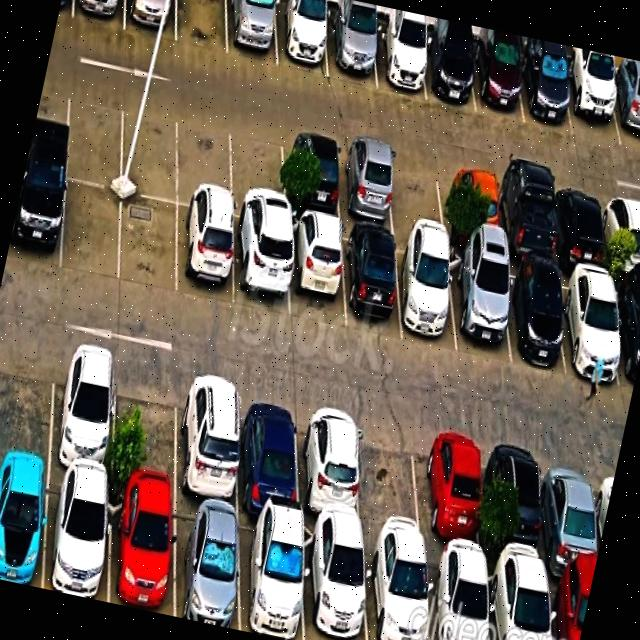empty: (355, 410, 424, 549), (113, 357, 177, 497), (0, 332, 55, 466), (121, 95, 180, 203), (61, 180, 122, 281), (65, 83, 123, 188), (119, 193, 177, 297), (230, 118, 284, 227), (177, 108, 231, 214), (388, 150, 445, 237), (176, 0, 227, 54)
occupied: (49, 342, 115, 482), (420, 421, 482, 562), (298, 397, 361, 534), (43, 471, 108, 602), (174, 499, 239, 630), (177, 371, 238, 510), (109, 485, 173, 616), (238, 384, 298, 520), (239, 513, 303, 640), (491, 434, 547, 572), (542, 446, 599, 581), (557, 267, 621, 384), (303, 525, 367, 640), (447, 250, 511, 363), (499, 260, 564, 369), (395, 237, 456, 352), (342, 226, 401, 337), (364, 541, 429, 640), (288, 215, 344, 328), (6, 165, 66, 270), (0, 462, 49, 588), (176, 205, 233, 306), (425, 551, 489, 640), (494, 172, 554, 265), (232, 219, 288, 318), (441, 161, 499, 251), (283, 130, 340, 220), (486, 562, 550, 640), (338, 140, 394, 229), (562, 60, 620, 145), (552, 182, 606, 270), (519, 47, 572, 134), (420, 32, 475, 111), (472, 38, 523, 122), (372, 21, 425, 99), (275, 0, 328, 76), (327, 11, 376, 86), (611, 277, 640, 391), (227, 0, 277, 66), (602, 191, 640, 276), (547, 573, 592, 640), (607, 68, 640, 150), (124, 0, 176, 41), (72, 0, 125, 29)
